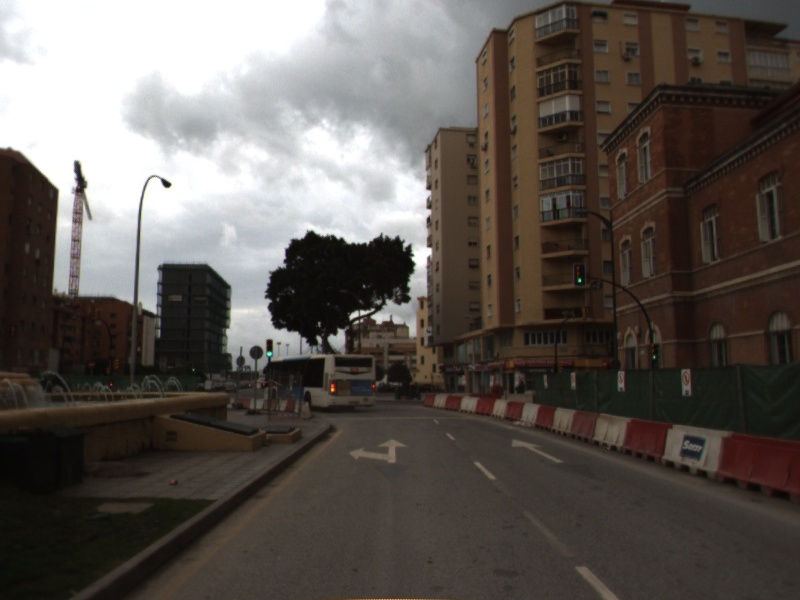STRAIGHT: (347, 437, 410, 465), (509, 437, 567, 465)
